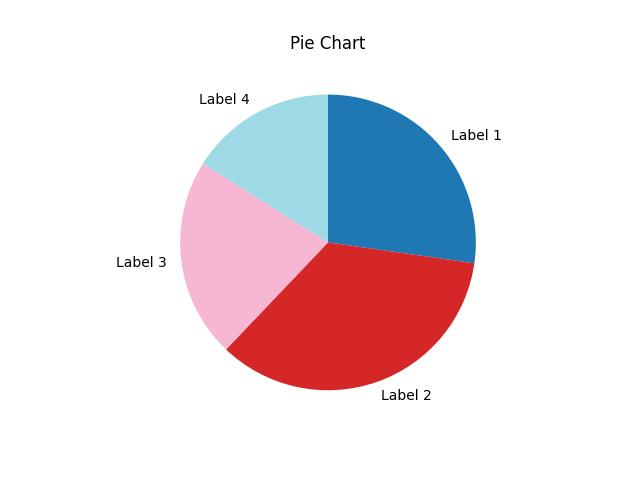sector: (226, 242, 475, 392), (179, 163, 328, 351), (327, 94, 477, 267), (200, 92, 328, 242)
